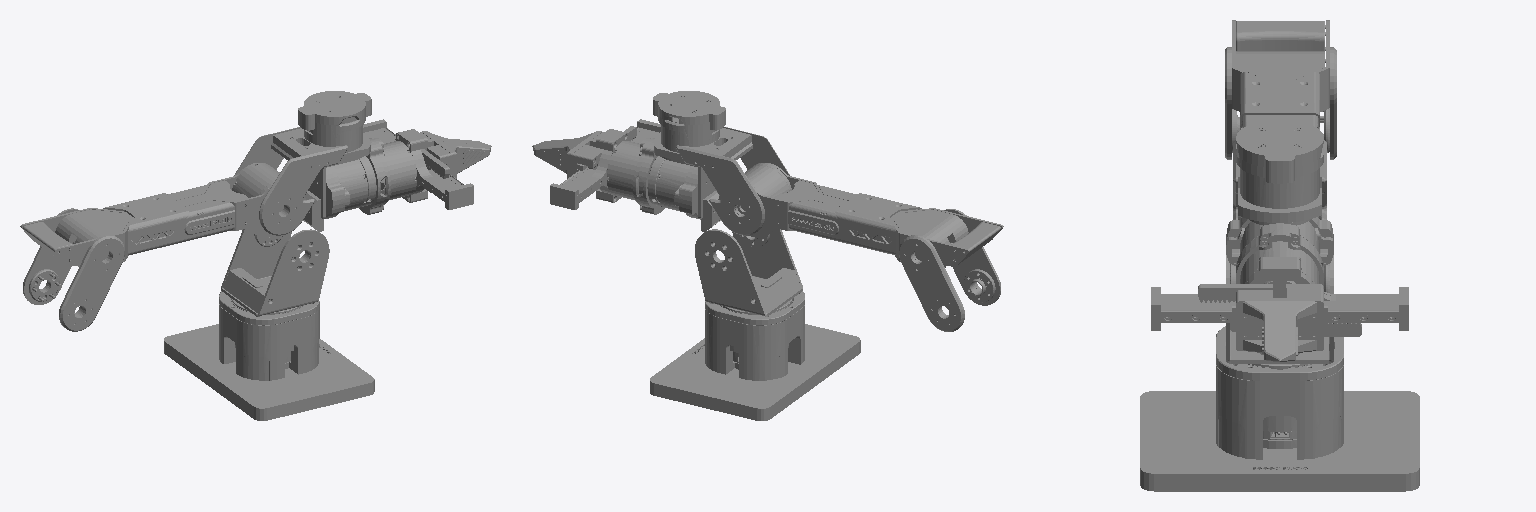
The robot description file, URDF, robot "reBot_B601_DM_with_gripper":
<?xml version="1.0" encoding="utf-8"?>
<!-- This URDF was automatically created by SolidWorks to URDF Exporter! Originally created by Stephen Brawner (brawner@gmail.com) 
     Commit Version: 1.6.0-4-g7f85cfe  Build Version: 1.6.7995.38578
     For more information, please see http://wiki.ros.org/sw_urdf_exporter -->
<robot
  name="reBot_B601_DM_with_gripper">
  <link
    name="base_link">
    <inertial>
      <origin
        xyz="-7.84900200290563E-06 -1.15307883068214E-06 0.0298408979494326"
        rpy="0 0 0" />
      <mass
        value="0.811794979292755" />
      <inertia
        ixx="0.00168302247602743"
        ixy="1.88775531040997E-09"
        ixz="-1.4880505554957E-08"
        iyy="0.00100801741336577"
        iyz="2.18234443445551E-07"
        izz="0.00244749461290355" />
    </inertial>
    <visual>
      <origin
        xyz="0 0 0"
        rpy="0 0 0" />
      <geometry>
        <mesh
          filename="package://reBot_B601_DM_with_gripper/meshes/base_link.STL" />
      </geometry>
      <material
        name="">
        <color
          rgba="0.627450980392157 0.627450980392157 0.627450980392157 1" />
      </material>
    </visual>
    <collision>
      <origin
        xyz="0 0 0"
        rpy="0 0 0" />
      <geometry>
        <mesh
          filename="package://reBot_B601_DM_with_gripper/meshes/base_link.STL" />
      </geometry>
    </collision>
  </link>
  <link
    name="link1">
    <inertial>
      <origin
        xyz="0.000113614552951625 -0.000616319527051332 0.0236476372671394"
        rpy="0 0 0" />
      <mass
        value="0.0712704108566766" />
      <inertia
        ixx="8.16072677894914E-05"
        ixy="5.36046410154163E-11"
        ixz="8.18305609511266E-06"
        iyy="4.70110503296665E-05"
        iyz="1.61531670602039E-10"
        izz="7.28111764636926E-05" />
    </inertial>
    <visual>
      <origin
        xyz="0 0 0"
        rpy="0 0 0" />
      <geometry>
        <mesh
          filename="package://reBot_B601_DM_with_gripper/meshes/link1.STL" />
      </geometry>
      <material
        name="">
        <color
          rgba="0.627450980392157 0.627450980392157 0.627450980392157 1" />
      </material>
    </visual>
    <collision>
      <origin
        xyz="0 0 0"
        rpy="0 0 0" />
      <geometry>
        <mesh
          filename="package://reBot_B601_DM_with_gripper/meshes/link1.STL" />
      </geometry>
    </collision>
  </link>
  <joint
    name="joint1"
    type="revolute">
    <origin
      xyz="-8.416E-05 0 0.08465"
      rpy="0 0 0" />
    <parent
      link="base_link" />
    <child
      link="link1" />
    <axis
      xyz="0 0 1" />
    <limit
      lower="-2.8"
      upper="2.8"
      effort="27"
      velocity="50" />
  </joint>
  <link
    name="link2">
    <inertial>
      <origin
        xyz="-0.13225622308888 -0.0030617036386309 -0.0308306967030205"
        rpy="0 0 0" />
      <mass
        value="0.707752121514755" />
      <inertia
        ixx="0.000249901808052776"
        ixy="1.60716268493487E-06"
        ixz="2.51351692749453E-09"
        iyy="0.00186309506788706"
        iyz="4.36542165693326E-07"
        izz="0.00185984644965715" />
    </inertial>
    <visual>
      <origin
        xyz="0 0 0"
        rpy="0 0 0" />
      <geometry>
        <mesh
          filename="package://reBot_B601_DM_with_gripper/meshes/link2.STL" />
      </geometry>
      <material
        name="">
        <color
          rgba="0.627450980392157 0.627450980392157 0.627450980392157 1" />
      </material>
    </visual>
    <collision>
      <origin
        xyz="0 0 0"
        rpy="0 0 0" />
      <geometry>
        <mesh
          filename="package://reBot_B601_DM_with_gripper/meshes/link2.STL" />
      </geometry>
    </collision>
  </link>
  <joint
    name="joint2"
    type="revolute">
    <origin
      xyz="0.020084 0.031625 0.05555"
      rpy="-1.5708 0 0" />
    <parent
      link="link1" />
    <child
      link="link2" />
    <axis
      xyz="0 0 -1" />
    <limit
      lower="-3.14"
      upper="0"
      effort="27"
      velocity="50" />
  </joint>
  <link
    name="link3">
    <inertial>
      <origin
        xyz="0.121040035791843 -0.053621107662795 -0.0310137854608077"
        rpy="0 0 0" />
      <mass
        value="0.52419140541782" />
      <inertia
        ixx="0.000160110451196588"
        ixy="-1.61604034790251E-05"
        ixz="-3.33082723566278E-06"
        iyy="0.00124900925034158"
        iyz="2.96940950304494E-07"
        izz="0.00125556700770441" />
    </inertial>
    <visual>
      <origin
        xyz="0 0 0"
        rpy="0 0 0" />
      <geometry>
        <mesh
          filename="package://reBot_B601_DM_with_gripper/meshes/link3.STL" />
      </geometry>
      <material
        name="">
        <color
          rgba="0.627450980392157 0.627450980392157 0.627450980392157 1" />
      </material>
    </visual>
    <collision>
      <origin
        xyz="0 0 0"
        rpy="0 0 0" />
      <geometry>
        <mesh
          filename="package://reBot_B601_DM_with_gripper/meshes/link3.STL" />
      </geometry>
    </collision>
  </link>
  <joint
    name="joint3"
    type="revolute">
    <origin
      xyz="-0.264 0 0"
      rpy="0 0 0" />
    <parent
      link="link2" />
    <child
      link="link3" />
    <axis
      xyz="0 0 1" />
    <limit
      lower="-3.14"
      upper="0"
      effort="27"
      velocity="50" />
  </joint>
  <link
    name="link4">
    <inertial>
      <origin
        xyz="0.0608200956293136 -0.0511711906613122 -0.030299458623927"
        rpy="0 0 0" />
      <mass
        value="0.192453138802909" />
      <inertia
        ixx="7.18437323853685E-05"
        ixy="-1.12301944983523E-05"
        ixz="-5.19641464683405E-08"
        iyy="0.000112925371032313"
        iyz="2.21782686196735E-07"
        izz="0.000101144200087277" />
    </inertial>
    <visual>
      <origin
        xyz="0 0 0"
        rpy="0 0 0" />
      <geometry>
        <mesh
          filename="package://reBot_B601_DM_with_gripper/meshes/link4.STL" />
      </geometry>
      <material
        name="">
        <color
          rgba="0.627450980392157 0.627450980392157 0.627450980392157 1" />
      </material>
    </visual>
    <collision>
      <origin
        xyz="0 0 0"
        rpy="0 0 0" />
      <geometry>
        <mesh
          filename="package://reBot_B601_DM_with_gripper/meshes/link4.STL" />
      </geometry>
    </collision>
  </link>
  <joint
    name="joint4"
    type="revolute">
    <origin
      xyz="0.2426 -0.054 -0.001625"
      rpy="0 0 0" />
    <parent
      link="link3" />
    <child
      link="link4" />
    <axis
      xyz="0 0 1" />
    <limit
      lower="-1.87"
      upper="1.57"
      effort="7"
      velocity="200" />
  </joint>
  <link
    name="link5">
    <inertial>
      <origin
        xyz="-0.00502802058982517 1.73866206692415E-06 0.0386233236326755"
        rpy="0 0 0" />
      <mass
        value="0.150639860360662" />
      <inertia
        ixx="6.79292015300619E-05"
        ixy="-7.20234792778753E-10"
        ixz="-2.82554290621394E-06"
        iyy="5.17282440362915E-05"
        iyz="9.87947895620082E-09"
        izz="5.43670142287029E-05" />
    </inertial>
    <visual>
      <origin
        xyz="0 0 0"
        rpy="0 0 0" />
      <geometry>
        <mesh
          filename="package://reBot_B601_DM_with_gripper/meshes/link5.STL" />
      </geometry>
      <material
        name="">
        <color
          rgba="0.627450980392157 0.627450980392157 0.627450980392157 1" />
      </material>
    </visual>
    <collision>
      <origin
        xyz="0 0 0"
        rpy="0 0 0" />
      <geometry>
        <mesh
          filename="package://reBot_B601_DM_with_gripper/meshes/link5.STL" />
      </geometry>
    </collision>
  </link>
  <joint
    name="joint5"
    type="revolute">
    <origin
      xyz="0.078308 -0.0375 -0.03"
      rpy="-1.5708 0 0" />
    <parent
      link="link4" />
    <child
      link="link5" />
    <axis
      xyz="0 0 1" />
    <limit
      lower="-1.57"
      upper="1.57"
      effort="7"
      velocity="200" />
  </joint>
  <link
    name="link6">
    <inertial>
      <origin
        xyz="3.01162331092231E-05 1.71023217462945E-10 0.00461169307687444"
        rpy="0 0 0" />
      <mass
        value="0.0155282499118665" />
      <inertia
        ixx="4.14212934452771E-06"
        ixy="3.92198052759728E-14"
        ixz="-6.26962848948777E-11"
        iyy="4.14241302911019E-06"
        iyz="-1.81788949206456E-15"
        izz="8.05211980186798E-06" />
    </inertial>
    <visual>
      <origin
        xyz="0 0 0"
        rpy="0 0 0" />
      <geometry>
        <mesh
          filename="package://reBot_B601_DM_with_gripper/meshes/link6.STL" />
      </geometry>
      <material
        name="">
        <color
          rgba="0.627450980392157 0.627450980392157 0.627450980392157 1" />
      </material>
    </visual>
    <collision>
      <origin
        xyz="0 0 0"
        rpy="0 0 0" />
      <geometry>
        <mesh
          filename="package://reBot_B601_DM_with_gripper/meshes/link6.STL" />
      </geometry>
    </collision>
  </link>
  <joint
    name="joint6"
    type="revolute">
    <origin
      xyz="0.023692 0 0.04"
      rpy="0 1.5708 0" />
    <parent
      link="link5" />
    <child
      link="link6" />
    <axis
      xyz="0 0 1" />
    <limit
      lower="-3.14"
      upper="3.14"
      effort="7"
      velocity="200" />
  </joint>
  <link
    name="gripper_link">
    <inertial>
      <origin
        xyz="-0.113763459108667 7.34878719783005E-05 1.07677070968759E-05"
        rpy="0 0 0" />
      <mass
        value="0.183321147514111" />
      <inertia
        ixx="0.000232463206270929"
        ixy="-2.77113800319615E-07"
        ixz="-1.85425289490563E-10"
        iyy="5.85934543851987E-05"
        iyz="-1.15492630698967E-08"
        izz="0.000205298129798417" />
    </inertial>
    <visual>
      <origin
        xyz="0 0 0"
        rpy="0 0 0" />
      <geometry>
        <mesh
          filename="package://reBot_B601_DM_with_gripper/meshes/gripper_link.STL" />
      </geometry>
      <material
        name="">
        <color
          rgba="0.627450980392157 0.627450980392157 0.627450980392157 1" />
      </material>
    </visual>
    <collision>
      <origin
        xyz="0 0 0"
        rpy="0 0 0" />
      <geometry>
        <mesh
          filename="package://reBot_B601_DM_with_gripper/meshes/gripper_link.STL" />
      </geometry>
    </collision>
  </link>
  <joint
    name="gripper_joint"
    type="fixed">
    <origin
      xyz="0 0 0.15971"
      rpy="3.1416 -1.5708 0" />
    <parent
      link="link6" />
    <child
      link="gripper_link" />
    <axis
      xyz="0 0 0" />
  </joint>
  <link
    name="gripper_left">
    <inertial>
      <origin
        xyz="0.00937154605945142 -0.0183514409006279 -0.00213050813223611"
        rpy="0 0 0" />
      <mass
        value="0.0423278952416158" />
      <inertia
        ixx="9.68819007445228E-06"
        ixy="-1.14547785891207E-06"
        ixz="1.8241043241999E-08"
        iyy="9.7195653452821E-06"
        iyz="1.20737618180169E-07"
        izz="1.13638462227589E-05" />
    </inertial>
    <visual>
      <origin
        xyz="0 0 0"
        rpy="0 0 0" />
      <geometry>
        <mesh
          filename="package://reBot_B601_DM_with_gripper/meshes/gripper_left.STL" />
      </geometry>
      <material
        name="">
        <color
          rgba="0.627450980392157 0.627450980392157 0.627450980392157 1" />
      </material>
    </visual>
    <collision>
      <origin
        xyz="0 0 0"
        rpy="0 0 0" />
      <geometry>
        <mesh
          filename="package://reBot_B601_DM_with_gripper/meshes/gripper_left.STL" />
      </geometry>
    </collision>
  </link>
  <joint
    name="gripper_joint1"
    type="prismatic">
    <origin
      xyz="-0.042091 2.7531E-05 -1.3031E-05"
      rpy="0 0 -1.5708" />
    <parent
      link="gripper_link" />
    <child
      link="gripper_left" />
    <axis
      xyz="1 0 0" />
    <limit
      lower="0"
      upper="0.0515"
      effort="100"
      velocity="15" />
  </joint>
  <link
    name="gripper_right">
    <inertial>
      <origin
        xyz="0.0093715459993667 0.0183514410059713 0.00213050822993752"
        rpy="0 0 0" />
      <mass
        value="0.0423278949561274" />
      <inertia
        ixx="9.68819002375832E-06"
        ixy="1.14547786360874E-06"
        ixz="-1.82410118281854E-08"
        iyy="9.7195652747221E-06"
        iyz="1.20737613592695E-07"
        izz="1.13638461944347E-05" />
    </inertial>
    <visual>
      <origin
        xyz="0 0 0"
        rpy="0 0 0" />
      <geometry>
        <mesh
          filename="package://reBot_B601_DM_with_gripper/meshes/gripper_right.STL" />
      </geometry>
      <material
        name="">
        <color
          rgba="0.627450980392157 0.627450980392157 0.627450980392157 1" />
      </material>
    </visual>
    <collision>
      <origin
        xyz="0 0 0"
        rpy="0 0 0" />
      <geometry>
        <mesh
          filename="package://reBot_B601_DM_with_gripper/meshes/gripper_right.STL" />
      </geometry>
    </collision>
  </link>
  <joint
    name="gripper_joint2"
    type="prismatic">
    <origin
      xyz="-0.042091 -2.7531E-05 1.3031E-05"
      rpy="0 0 1.5708" />
    <parent
      link="gripper_link" />
    <child
      link="gripper_right" />
    <axis
      xyz="1 0 0" />
    <limit
      lower="0"
      upper="0.0515"
      effort="100"
      velocity="15" />
  </joint>
</robot>

--- What the picture shows (computed from the rendered views, not written in the file) ---
The picture shows the robot from 3 angles, left to right: view 1: azimuth 30°, elevation 25°; view 2: azimuth 150°, elevation 25°; view 3: azimuth 270°, elevation 25°; orthographic projection.
Robot: reBot_B601_DM_with_gripper — 10 links, 9 joints (6 revolute, 2 prismatic, 1 fixed); root link base_link; default pose: every joint at zero.
Links seen in each view (by area): view 1: link3, base_link, link4, link1, gripper_link, link5, gripper_left, gripper_right; view 2: link3, base_link, link4, link1, gripper_link, link5, gripper_right; view 3: base_link, link3, link4, gripper_link, gripper_right, gripper_left, link5, link1.
Boxes of the visible links, x1,y1,x2,y2 form: link3: (20, 163, 305, 331); base_link: (164, 291, 374, 420); link4: (234, 91, 371, 235); link1: (221, 229, 329, 316); gripper_link: (359, 119, 473, 214); link5: (303, 157, 367, 231); gripper_left: (424, 141, 490, 192); gripper_right: (420, 131, 491, 178); link3: (718, 163, 1003, 331); base_link: (650, 291, 860, 420); link4: (653, 91, 789, 235); link1: (695, 229, 802, 316); gripper_link: (550, 119, 664, 214); link5: (656, 157, 720, 231); gripper_right: (533, 126, 636, 178); base_link: (1140, 326, 1419, 491); link3: (1225, 20, 1336, 217); link4: (1233, 115, 1326, 222); gripper_link: (1151, 223, 1408, 354); gripper_right: (1198, 284, 1327, 361); gripper_left: (1232, 290, 1361, 361); link5: (1226, 217, 1333, 265); link1: (1226, 255, 1333, 363).
Size in the robot's own frame: 0.531 by 0.2 by 0.2822 metres.
9 mesh visuals loaded from 10 distinct referenced files (9 binary STL); not drawn: 1 (reference not matched to a file when rendering).
